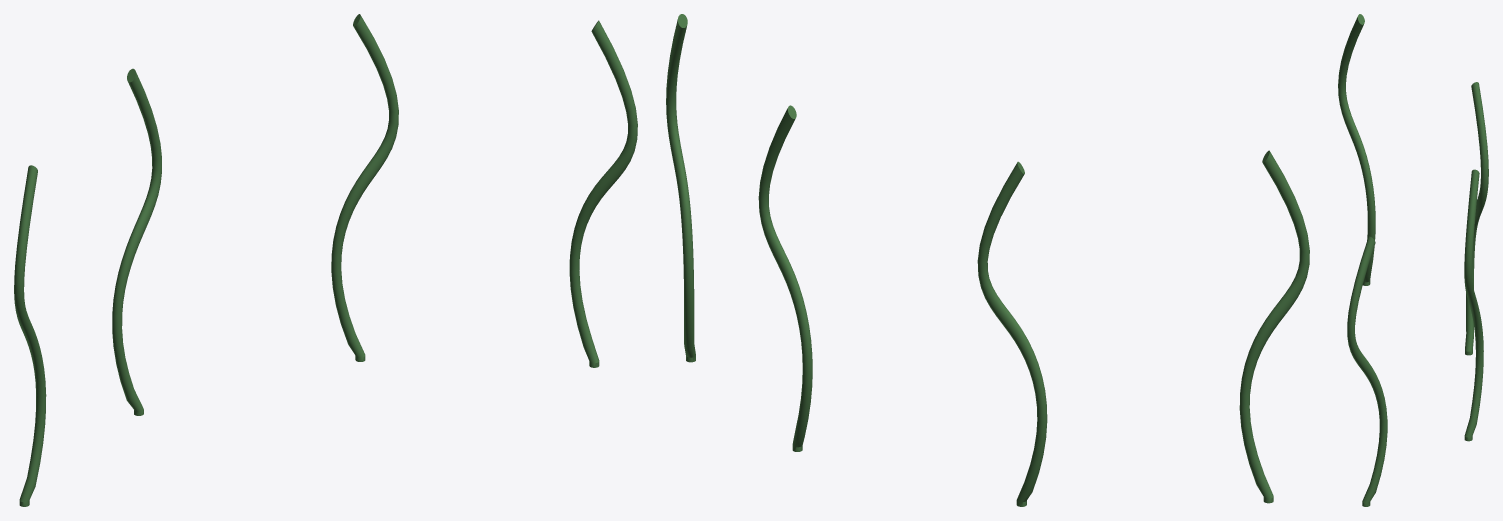
Rendered from Plants.fbx.
3 views of the same model, side by side, from view 1: azimuth 30°, elevation 25°; view 2: azimuth 150°, elevation 25°; view 3: azimuth 270°, elevation 25° (orthographic). The views are drawn at different scales.
Parts seen in each view (by area): view 1: polySurface51, polySurface52, polySurface50, polySurface49; view 2: polySurface49, polySurface50, polySurface51, polySurface52; view 3: polySurface52, polySurface51, polySurface49, polySurface50.
Boxes of the visible parts, left/top/right/bottom form: polySurface51: left=331, top=14, right=398, bottom=361; polySurface52: left=569, top=20, right=637, bottom=367; polySurface50: left=112, top=68, right=161, bottom=415; polySurface49: left=14, top=165, right=46, bottom=506; polySurface49: left=1239, top=150, right=1309, bottom=503; polySurface50: left=977, top=161, right=1047, bottom=506; polySurface51: left=758, top=105, right=812, bottom=451; polySurface52: left=666, top=14, right=695, bottom=362; polySurface52: left=1347, top=236, right=1387, bottom=506; polySurface51: left=1464, top=169, right=1483, bottom=441; polySurface49: left=1338, top=14, right=1375, bottom=285; polySurface50: left=1465, top=82, right=1488, bottom=355.
Bounding box in the file's own units: 246 × 128 × 64.43.
